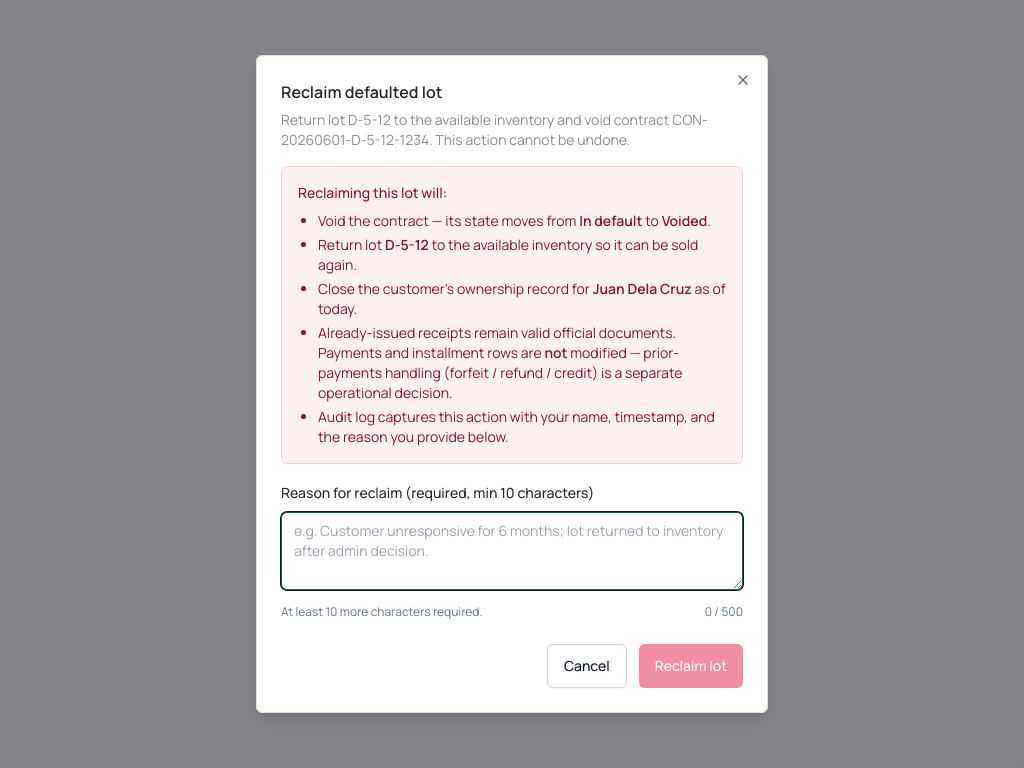
Test: ReclaimLotDialog › surfaces server errors inline as role=alert without locking the submit button
Type "Reclaim approved by owner." into the text box with test id "reclaim-lot-reason".
click(512, 551); type("Reclaim approved by owner.")  # box x1=281 y1=512 x2=743 y2=590
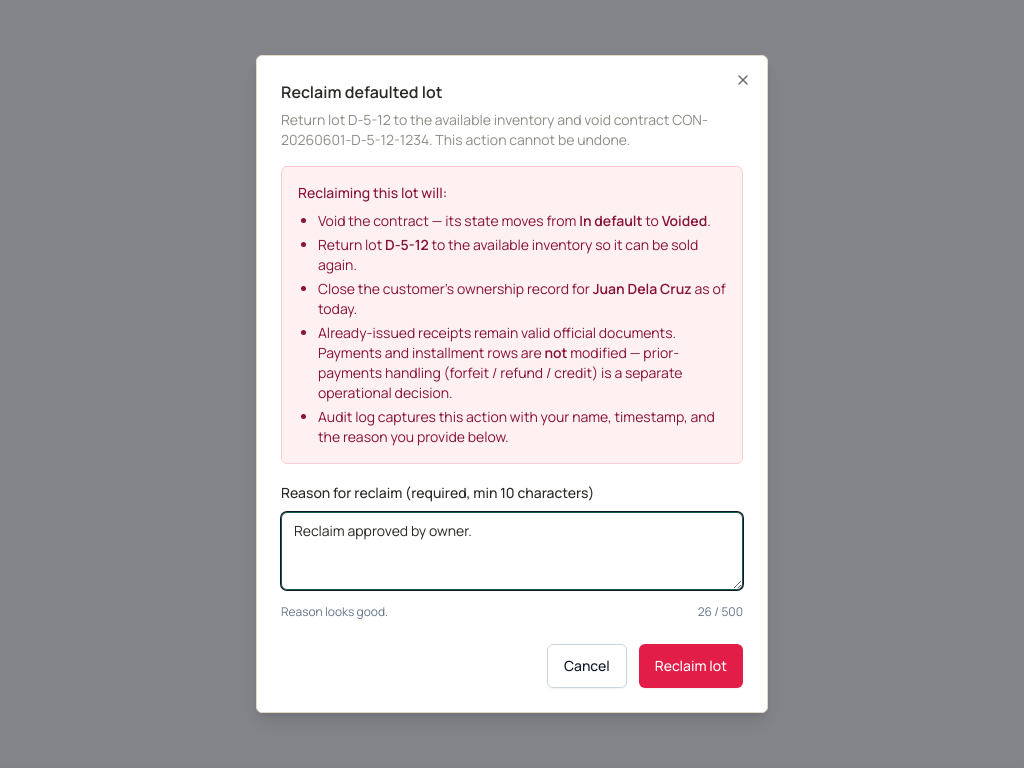
Click the button with test id "reclaim-lot-confirm".
click(691, 666)  # box x1=639 y1=644 x2=743 y2=688
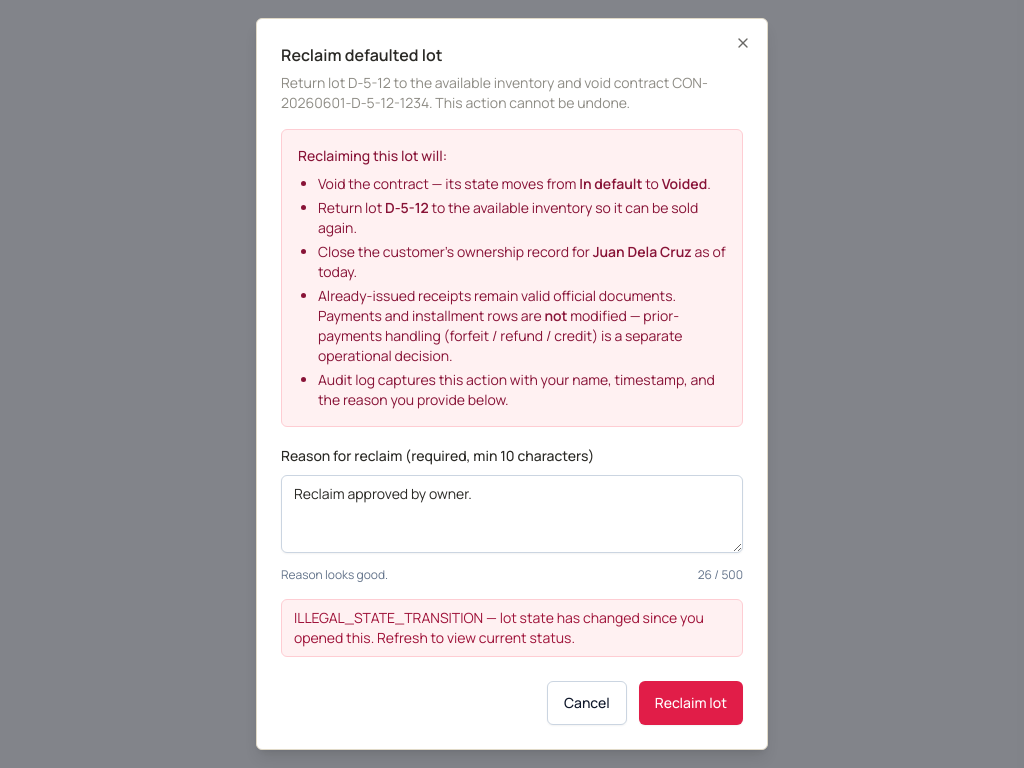
Expected: the button with test id "reclaim-lot-confirm" is enabled, x1=639 y1=681 x2=743 y2=725
Expected: the message shows "ILLEGAL_STATE_TRANSITION", x1=294 y1=608 x2=704 y2=647
